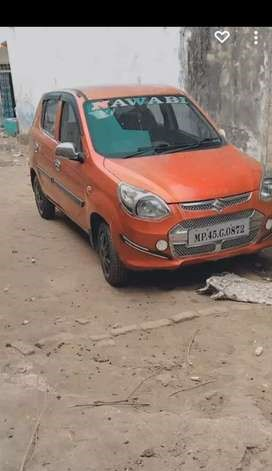MP45G0872: (189, 216, 248, 248)
